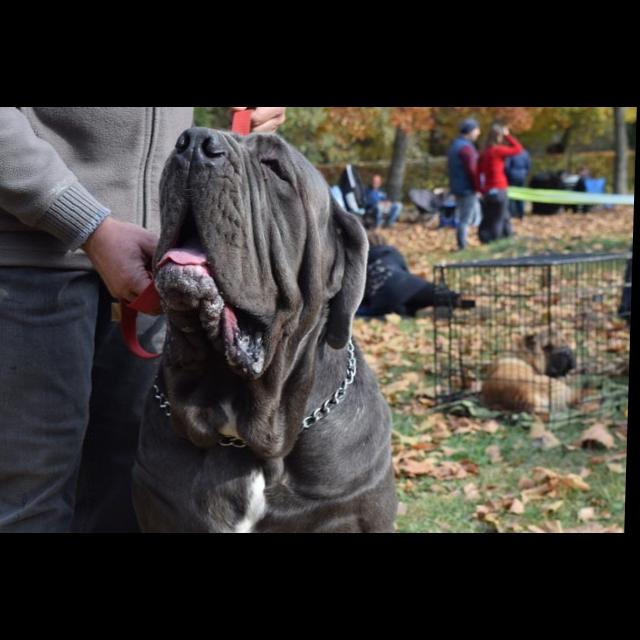mastino_napoletano: (133, 126, 412, 535)
person: (1, 108, 289, 534), (473, 126, 525, 247), (450, 121, 485, 250)
